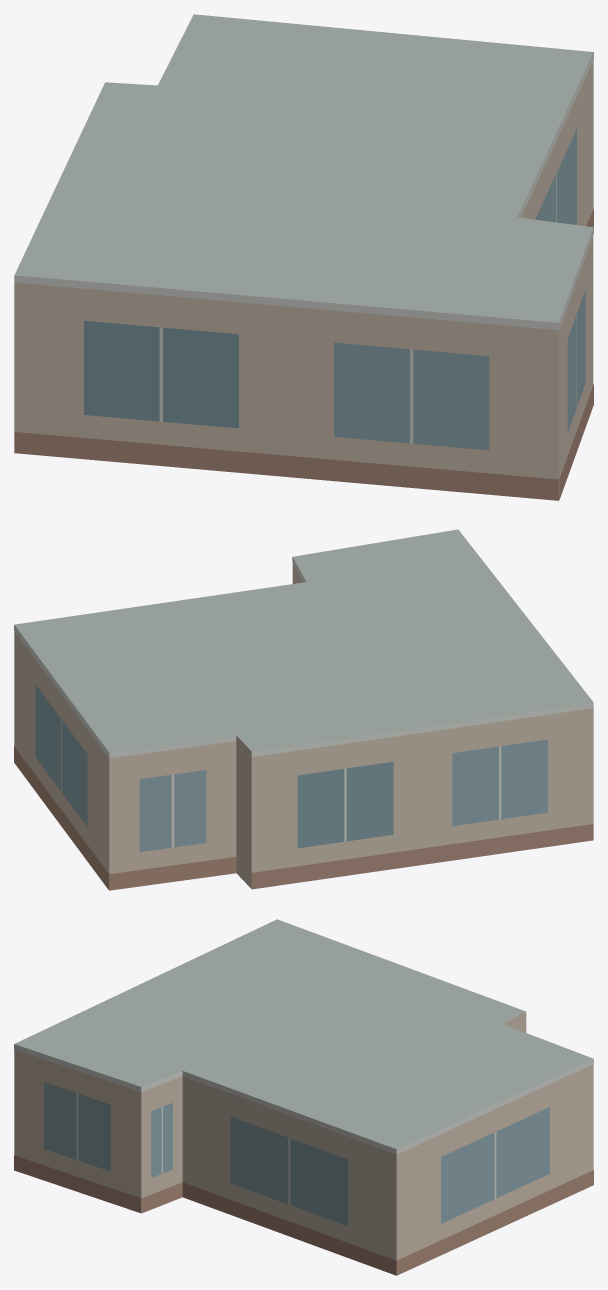
Rendered from survey-upis-32754210.glb.
3 renders of one model, top to bottom at view 1: azimuth 30°, elevation 25°; view 2: azimuth 150°, elevation 25°; view 3: azimuth 270°, elevation 25°, orthographic. The views are drawn at different scales.
Parts seen in each view (by area): view 1: survey-upis-32754210.tmp; view 2: survey-upis-32754210.tmp; view 3: survey-upis-32754210.tmp.
Part boxes in pixels (x1,y1,x2,y2): survey-upis-32754210.tmp: [14, 14, 593, 500]; survey-upis-32754210.tmp: [14, 529, 593, 890]; survey-upis-32754210.tmp: [14, 919, 593, 1275].
Size of the model in its own units: 11.92 by 3.05 by 12.69.
